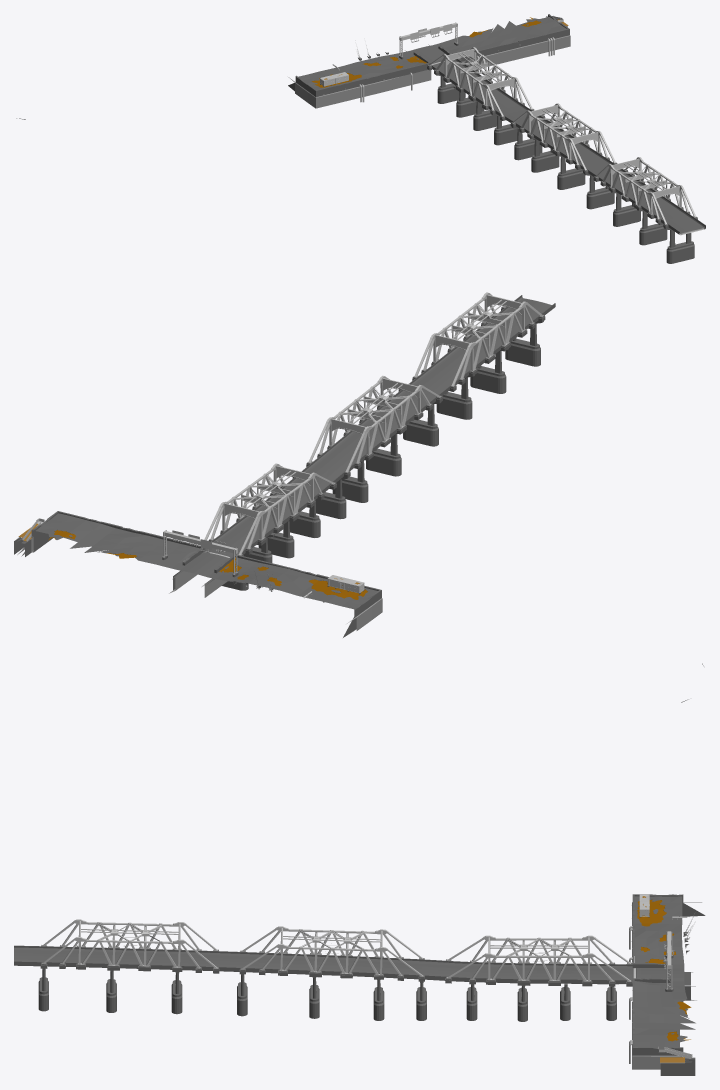
Rendered from bronx_e2_6.FBX.
3 views of the same model, one above another, from view 1: azimuth 30°, elevation 25°; view 2: azimuth 150°, elevation 25°; view 3: azimuth 270°, elevation 25° (orthographic). The views are drawn at different scales.
Visible parts, largest first — view 1: unnamed, null; view 2: unnamed, null; view 3: unnamed, null.
Part boxes in pixels (x1=…): unnamed: x1=16, y1=14, x2=572, y2=172; null: x1=537, y1=109, x2=705, y2=263; unnamed: x1=14, y1=411, x2=703, y2=665; null: x1=341, y1=292, x2=555, y2=476; unnamed: x1=341, y1=699, x2=705, y2=1075; null: x1=14, y1=919, x2=381, y2=1018.
Bounding box in the file's own units: 284 × 34.48 × 254.
